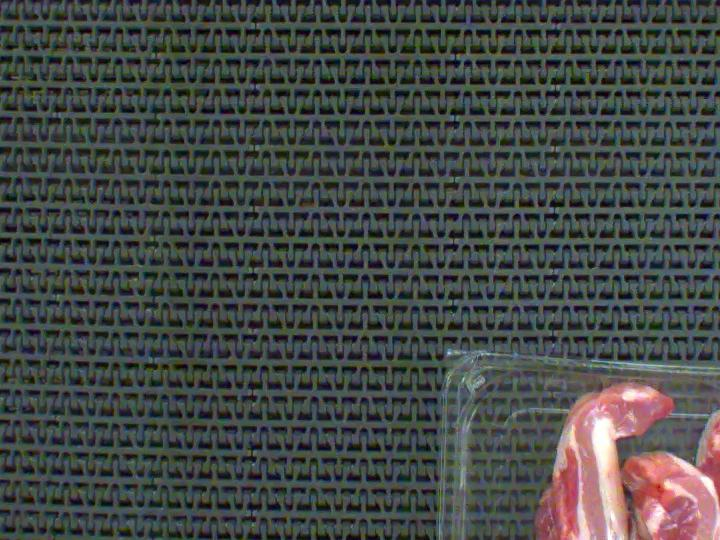packaging-error: (583, 333, 720, 440)
